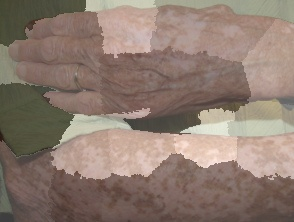vitiligo: (5, 1, 294, 127), (0, 126, 294, 222)
